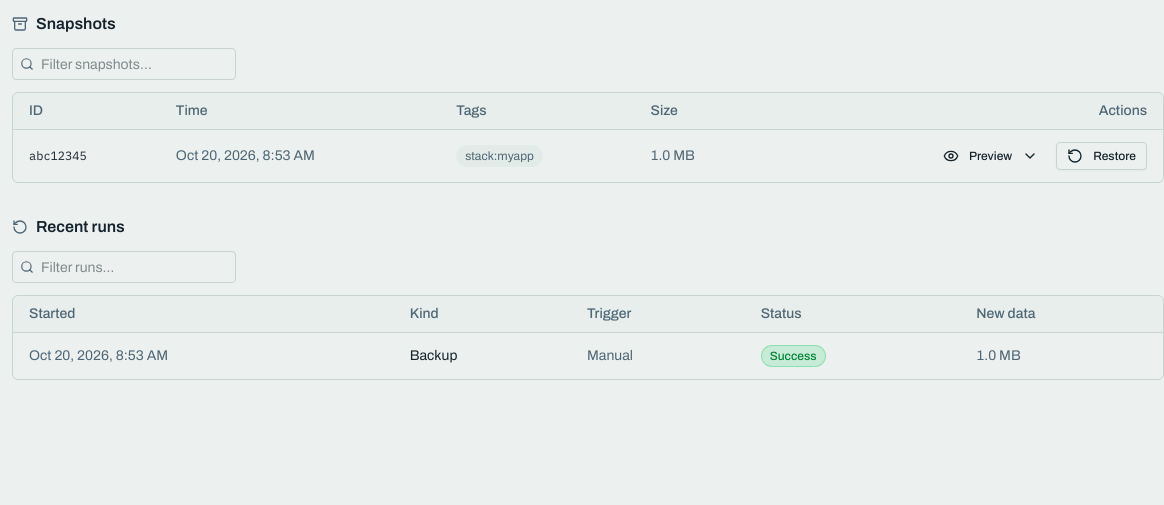
Test case: BackupsTab — snapshot preview panel › shows "No entries found" when preview has no entries
What coordinates should you click on to do the following:
click the button with aria-label "show preview"
I would click on:
 (991, 156)
Its box is [933,142,1048,170].
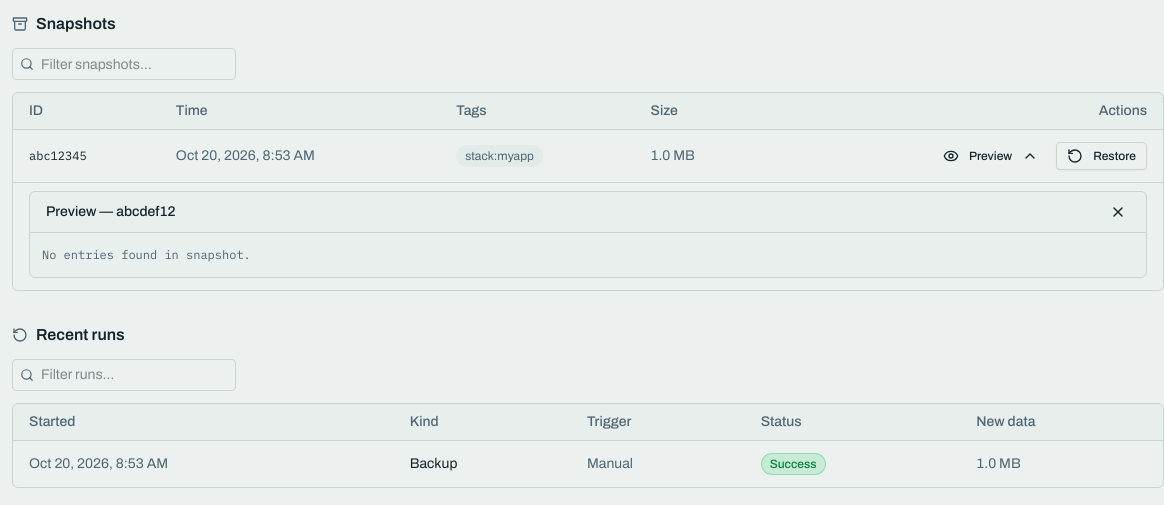
Now the text "No entries found in snapshot." is shown, box [42,247,251,262]
